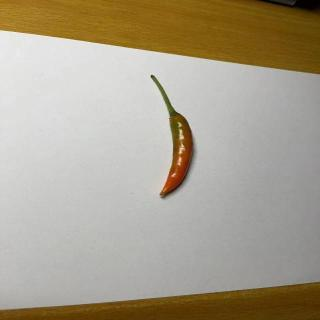Cabai Merah: (151, 75, 193, 197)
